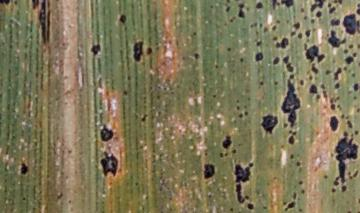tarspot: (330, 130, 359, 194), (281, 73, 302, 130), (232, 160, 254, 203), (37, 1, 53, 48), (300, 41, 326, 63), (99, 150, 119, 178), (341, 13, 360, 37), (260, 114, 279, 137), (325, 29, 345, 50), (131, 40, 144, 63), (100, 124, 114, 145), (282, 54, 296, 74), (201, 162, 215, 180), (308, 1, 327, 13), (328, 114, 339, 134), (281, 200, 296, 213), (221, 134, 232, 150), (19, 160, 29, 176), (89, 43, 101, 56), (237, 1, 245, 19), (117, 12, 128, 25), (328, 17, 341, 28), (279, 36, 289, 50), (333, 66, 342, 81), (287, 133, 296, 147), (270, 55, 280, 67), (28, 1, 41, 10), (254, 51, 263, 64), (310, 61, 319, 74), (344, 55, 354, 66), (290, 20, 301, 30), (320, 90, 329, 102), (328, 95, 341, 103), (344, 119, 354, 129), (280, 1, 294, 8), (335, 102, 343, 114), (139, 113, 148, 123), (308, 84, 318, 93), (352, 82, 360, 93), (303, 29, 312, 38), (323, 68, 332, 77), (255, 1, 263, 11), (355, 1, 360, 16), (328, 5, 336, 14), (273, 41, 281, 50), (255, 39, 263, 48), (228, 15, 237, 23), (145, 46, 152, 56), (193, 51, 200, 61), (315, 10, 322, 20), (246, 202, 253, 211), (281, 121, 288, 130), (224, 5, 231, 14), (296, 31, 303, 40), (319, 81, 326, 90), (270, 24, 277, 33), (329, 102, 336, 111), (1, 1, 11, 7), (121, 89, 129, 96), (298, 79, 305, 87), (314, 93, 322, 100), (333, 81, 340, 89), (309, 17, 316, 25), (286, 130, 297, 135), (270, 1, 276, 10), (263, 25, 269, 34), (248, 22, 257, 28), (231, 148, 238, 155), (352, 129, 359, 136), (271, 35, 278, 42), (295, 160, 301, 168), (258, 79, 264, 87), (272, 80, 280, 86), (210, 93, 218, 99), (218, 150, 223, 159), (202, 150, 208, 157), (298, 179, 304, 186), (289, 153, 295, 160), (238, 57, 244, 64), (225, 46, 231, 53), (191, 30, 197, 37), (275, 17, 281, 24), (302, 14, 308, 21), (299, 7, 305, 14), (260, 204, 267, 210), (235, 104, 240, 112), (258, 21, 263, 29), (308, 74, 313, 82), (223, 151, 229, 157), (228, 206, 234, 212), (291, 190, 295, 199), (322, 174, 328, 180), (347, 43, 353, 49), (237, 113, 243, 119), (243, 110, 249, 116), (213, 63, 219, 69), (352, 95, 358, 101), (352, 51, 357, 58), (332, 1, 343, 4), (326, 2, 332, 7), (351, 72, 356, 78), (356, 106, 360, 113), (235, 97, 239, 104), (357, 196, 360, 205), (300, 189, 305, 194), (345, 210, 352, 213), (357, 43, 360, 50), (13, 1, 17, 6), (356, 61, 360, 66), (224, 1, 230, 4), (356, 210, 360, 213)
